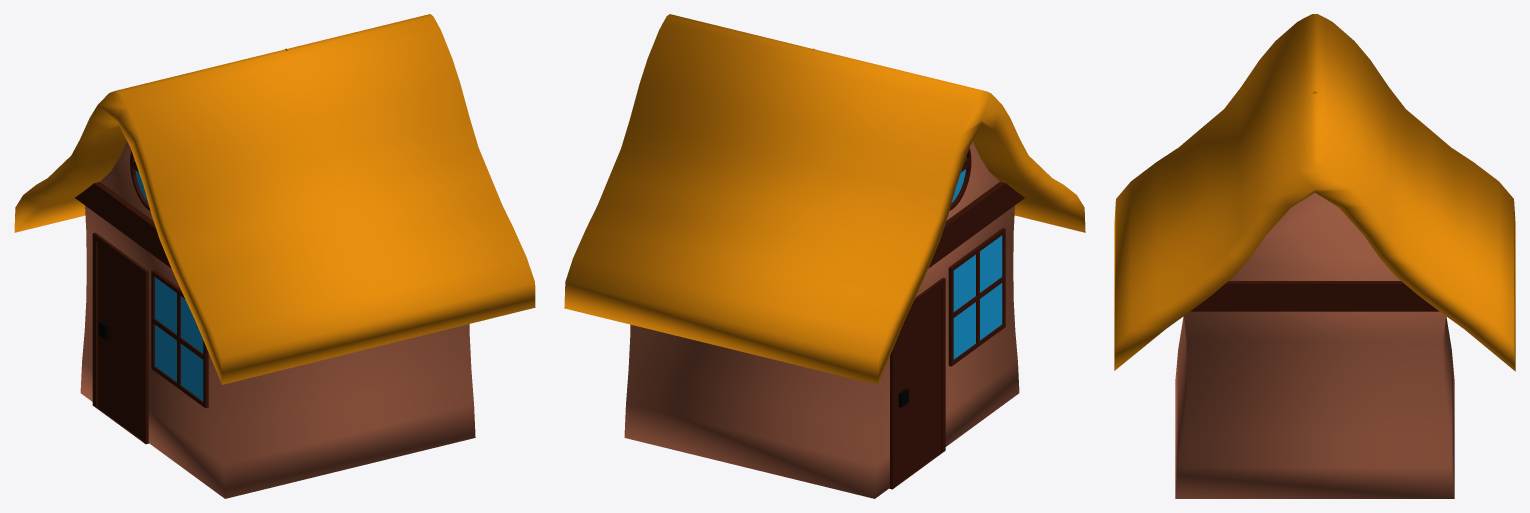
The model's file is House1.fbx.
The picture shows the model from 3 angles, left to right: view 1: azimuth 30°, elevation 25°; view 2: azimuth 150°, elevation 25°; view 3: azimuth 270°, elevation 25°; orthographic projection. The views are drawn at different scales.
Parts seen in each view (by area): view 1: Cube.001, Cube, Cube.003, Cube.004, Cube.002; view 2: Cube.001, Cube, Cube.003, Cube.004, Cube.002; view 3: Cube.001, Cube, Cube.002.
Boxes of the visible parts, <box> form: Cube.001: <box>14,14,535,384</box>; Cube: <box>80,141,475,498</box>; Cube.003: <box>92,232,148,444</box>; Cube.004: <box>151,270,208,408</box>; Cube.002: <box>75,182,171,268</box>; Cube.001: <box>564,14,1085,384</box>; Cube: <box>624,141,1019,498</box>; Cube.003: <box>889,277,945,489</box>; Cube.004: <box>948,228,1005,366</box>; Cube.002: <box>928,182,1024,268</box>; Cube.001: <box>1114,14,1515,371</box>; Cube: <box>1175,193,1454,498</box>; Cube.002: <box>1190,281,1439,311</box>.
Size of the model in its own units: 380 by 424 by 437.
